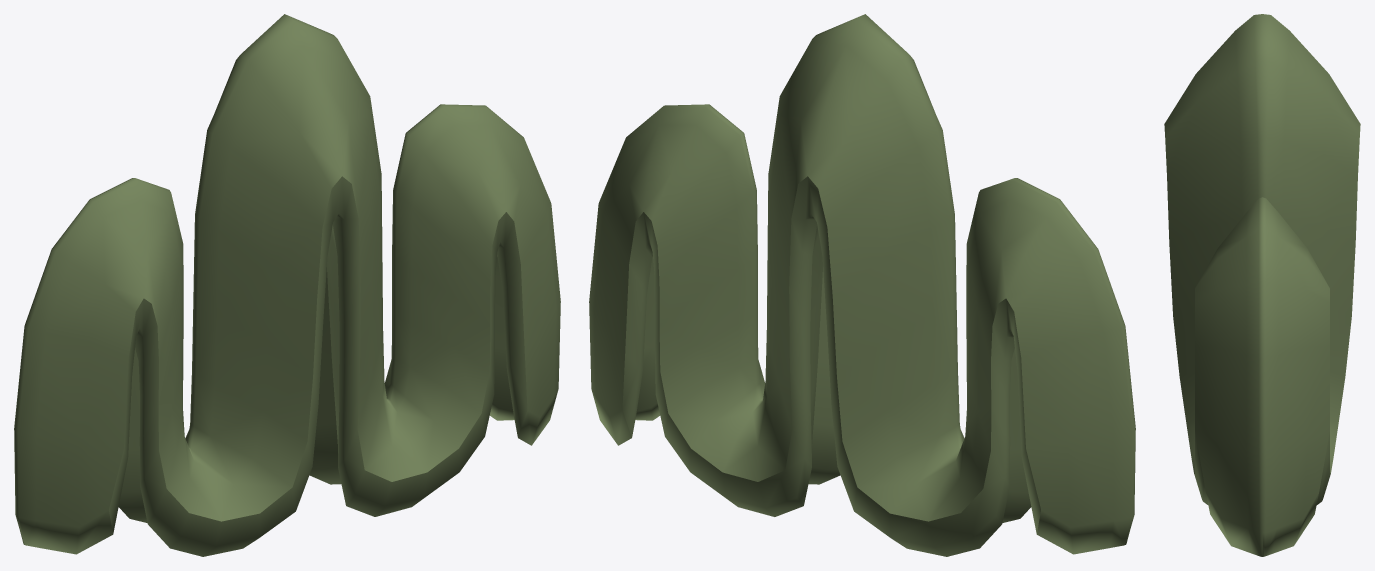
The model's file is quaternius-ultimate-space-bush-2-transformed.glb.
The picture shows the model from 3 angles, left to right: view 1: azimuth 30°, elevation 25°; view 2: azimuth 150°, elevation 25°; view 3: azimuth 270°, elevation 25°; orthographic projection. The views are drawn at different scales.
Parts seen in each view (by area): view 1: Bush_2; view 2: Bush_2; view 3: Bush_2.
Part boxes in pixels (x1,y1,x2,y2): Bush_2: [14, 14, 560, 556]; Bush_2: [589, 14, 1135, 556]; Bush_2: [1164, 14, 1360, 556].
Size of the model in its own units: 1.82 by 1.6 by 0.6208.
1 material, 1 textured.
